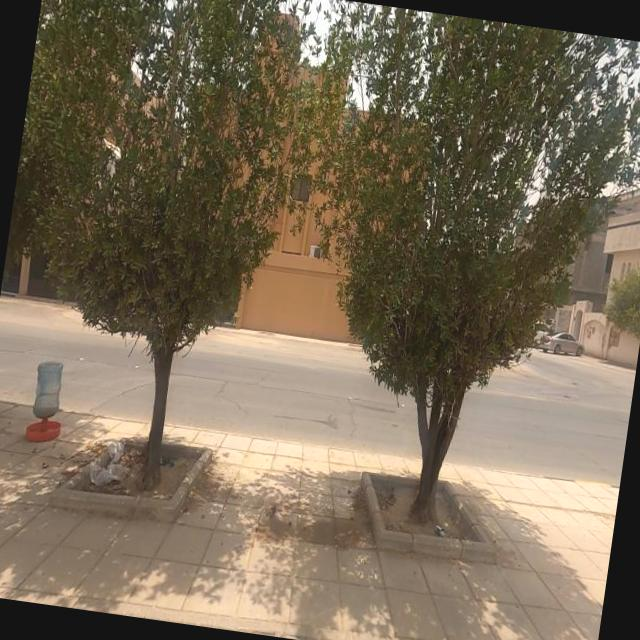debris: (46, 380, 176, 545), (405, 497, 467, 568)
